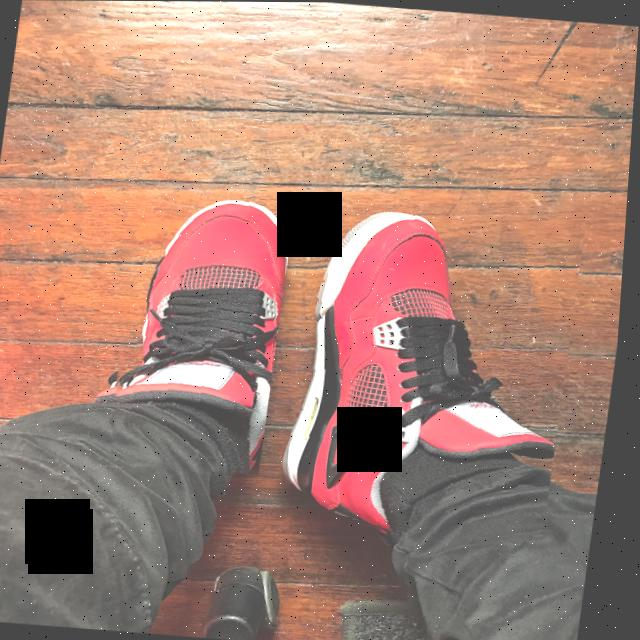shoe: (265, 197, 590, 545), (100, 190, 299, 478)
